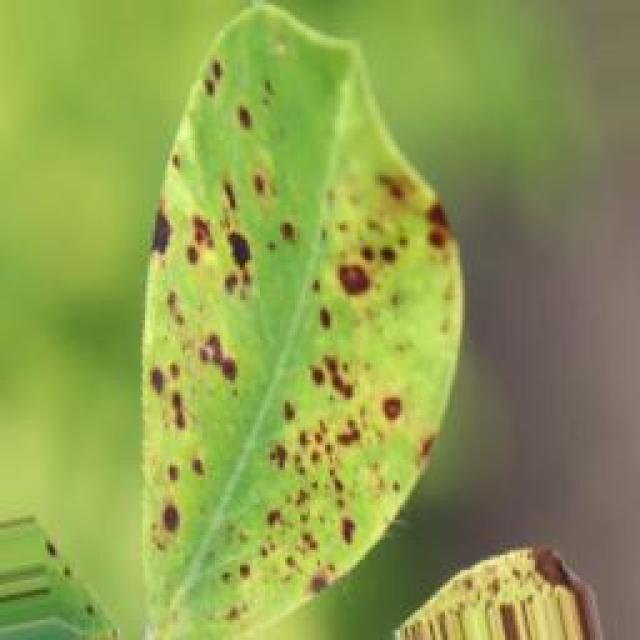Yellowish: (110, 47, 552, 616)
